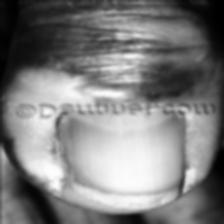Toxin: (46, 116, 194, 204), (23, 32, 185, 102)
